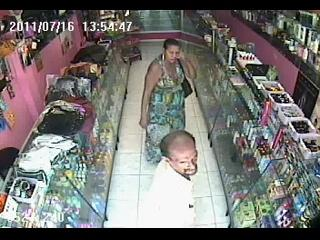Normal: (138, 38, 196, 165), (140, 130, 198, 228)
